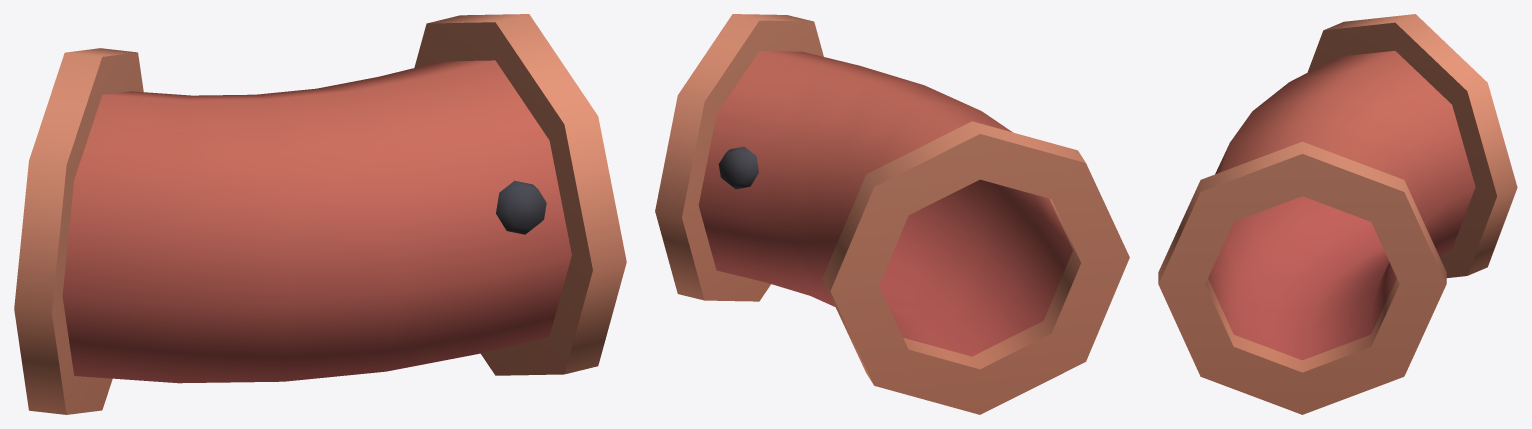
The model's file is pipe-large-curve.obj.
The picture shows the model from 3 angles, left to right: view 1: azimuth 30°, elevation 25°; view 2: azimuth 150°, elevation 25°; view 3: azimuth 270°, elevation 25°; orthographic projection. The views are drawn at different scales.
Visible parts, largest first — view 1: pipe-large-curve; view 2: pipe-large-curve; view 3: pipe-large-curve.
Part boxes in pixels (bbox=[...]): pipe-large-curve: bbox=[14, 14, 626, 414]; pipe-large-curve: bbox=[655, 14, 1129, 414]; pipe-large-curve: bbox=[1158, 14, 1517, 414].
Bounding box in the file's own units: 1.5 × 1 × 1.25.
